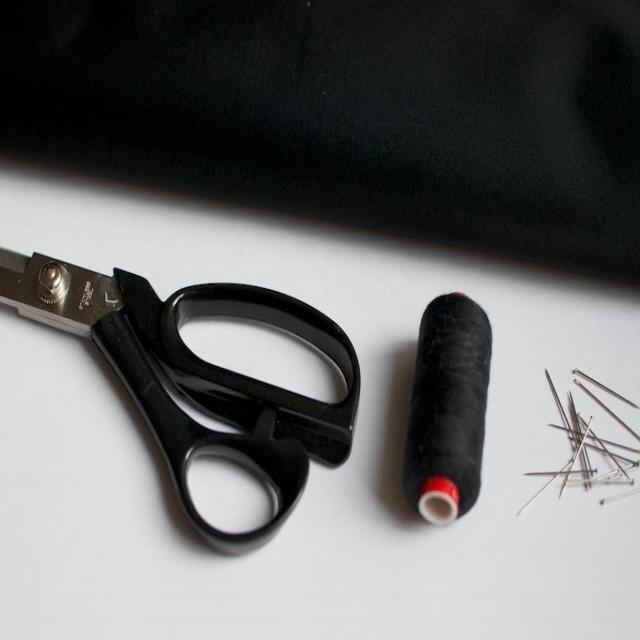scissor: (0, 242, 363, 550)
